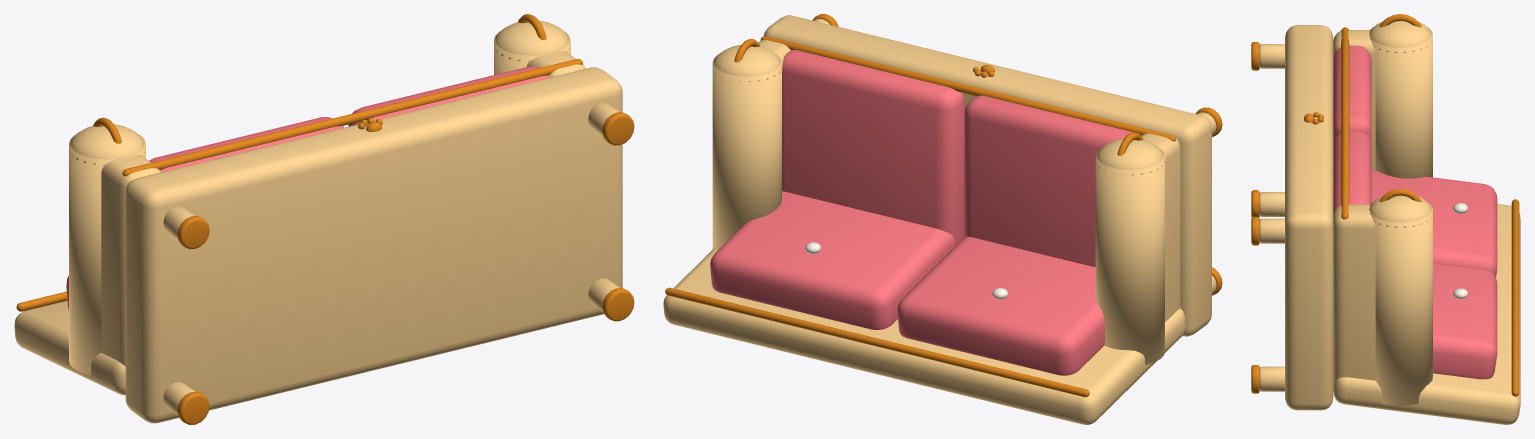
Rendered from LivingSofa_Premium.fbx.
3 views of the same model, side by side, from view 1: azimuth 30°, elevation 25°; view 2: azimuth 150°, elevation 25°; view 3: azimuth 270°, elevation 25° (orthographic). The views are drawn at different scales.
Visible parts, largest first — view 1: LivingSofa; view 2: LivingSofa; view 3: LivingSofa.
Boxes of the visible parts, left/top/right/bottom form: LivingSofa: left=14, top=14, right=634, bottom=424; LivingSofa: left=663, top=14, right=1222, bottom=424; LivingSofa: left=1251, top=14, right=1520, bottom=424.
Bounding box in the file's own units: 1.99 × 1.05 × 1.12.
